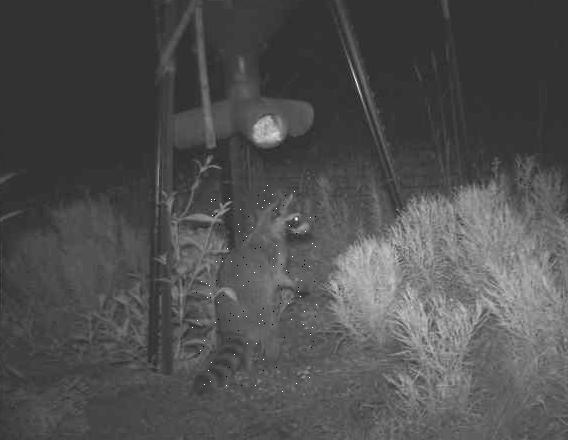Raccoon: (191, 184, 318, 394)
